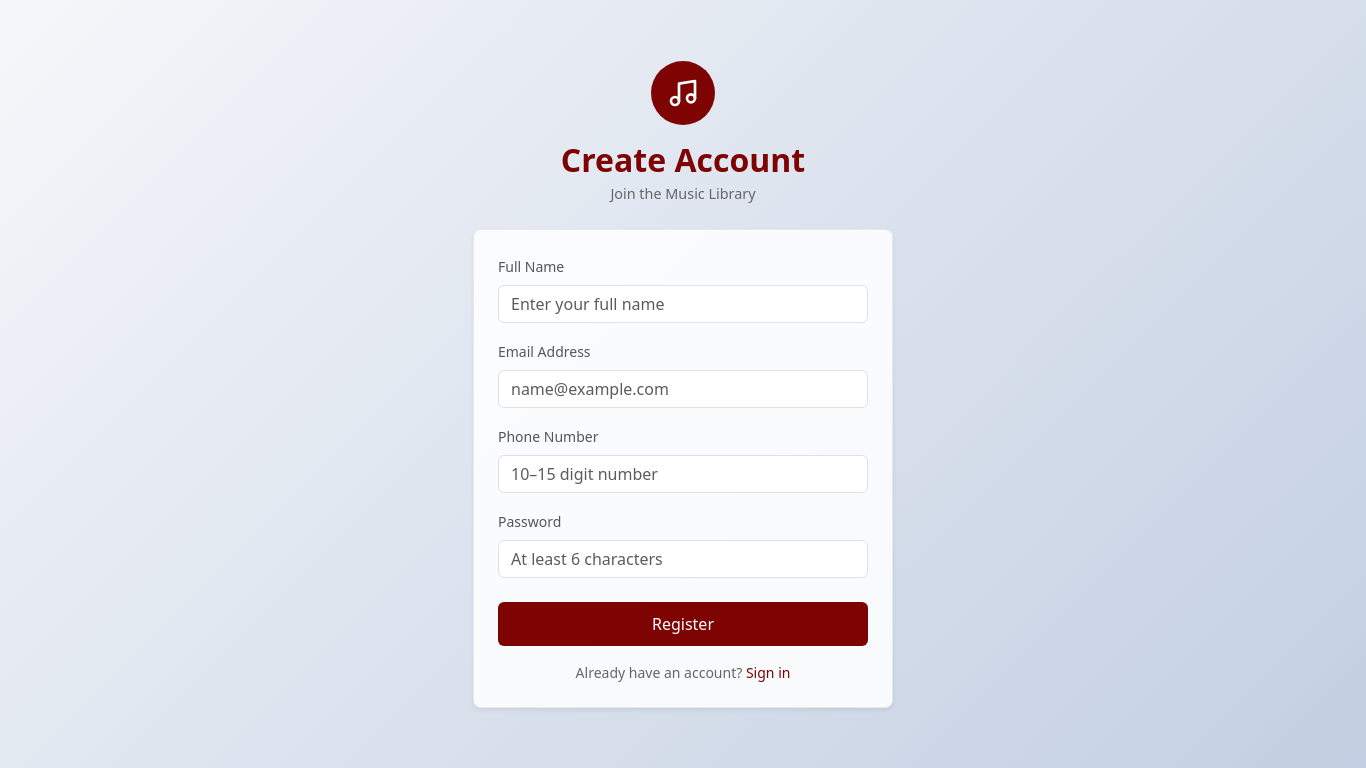
Register component › API calls › shows success message after successful registration
In the field with placeholder "Enter your full name": (683, 304) [498,284,868,322], type "John Doe"
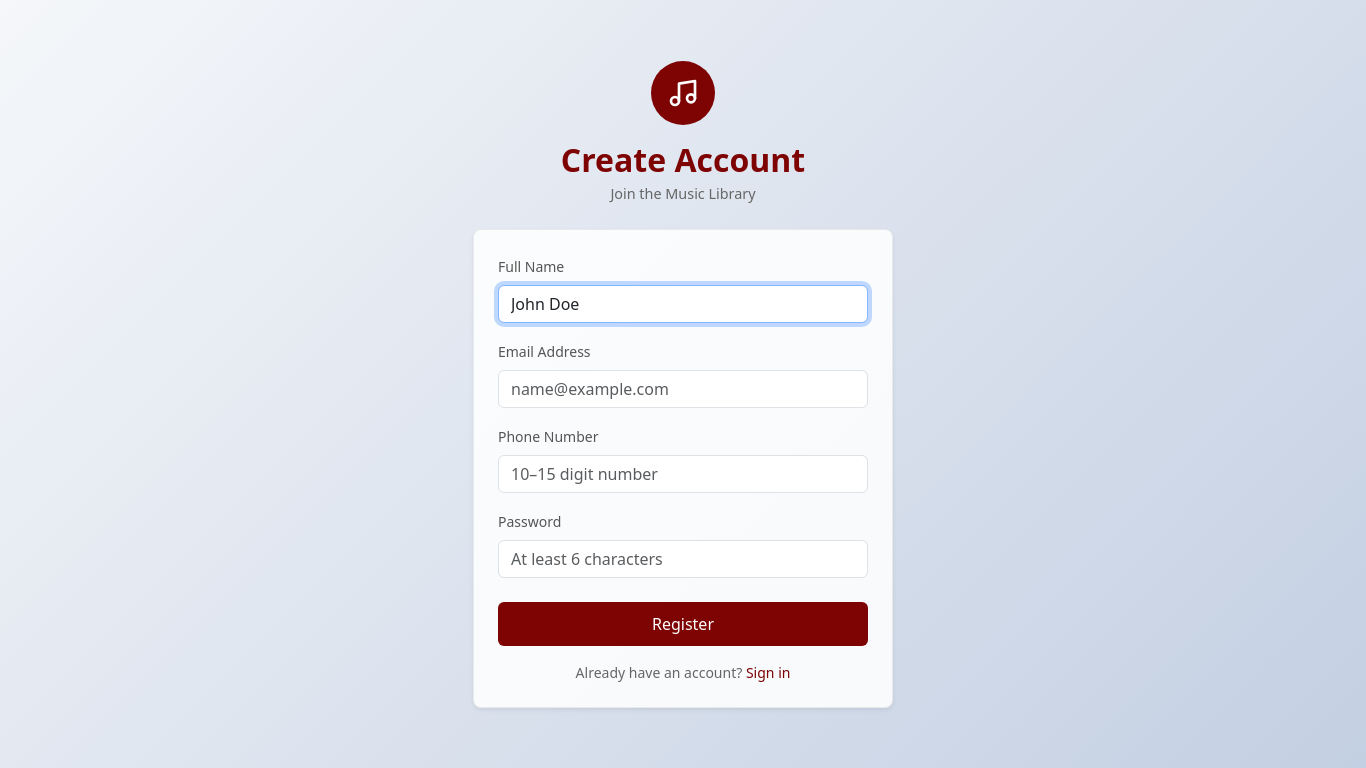
In the field with placeholder "name@example.com": (683, 388) [498,370,868,408], type "john@music.com"
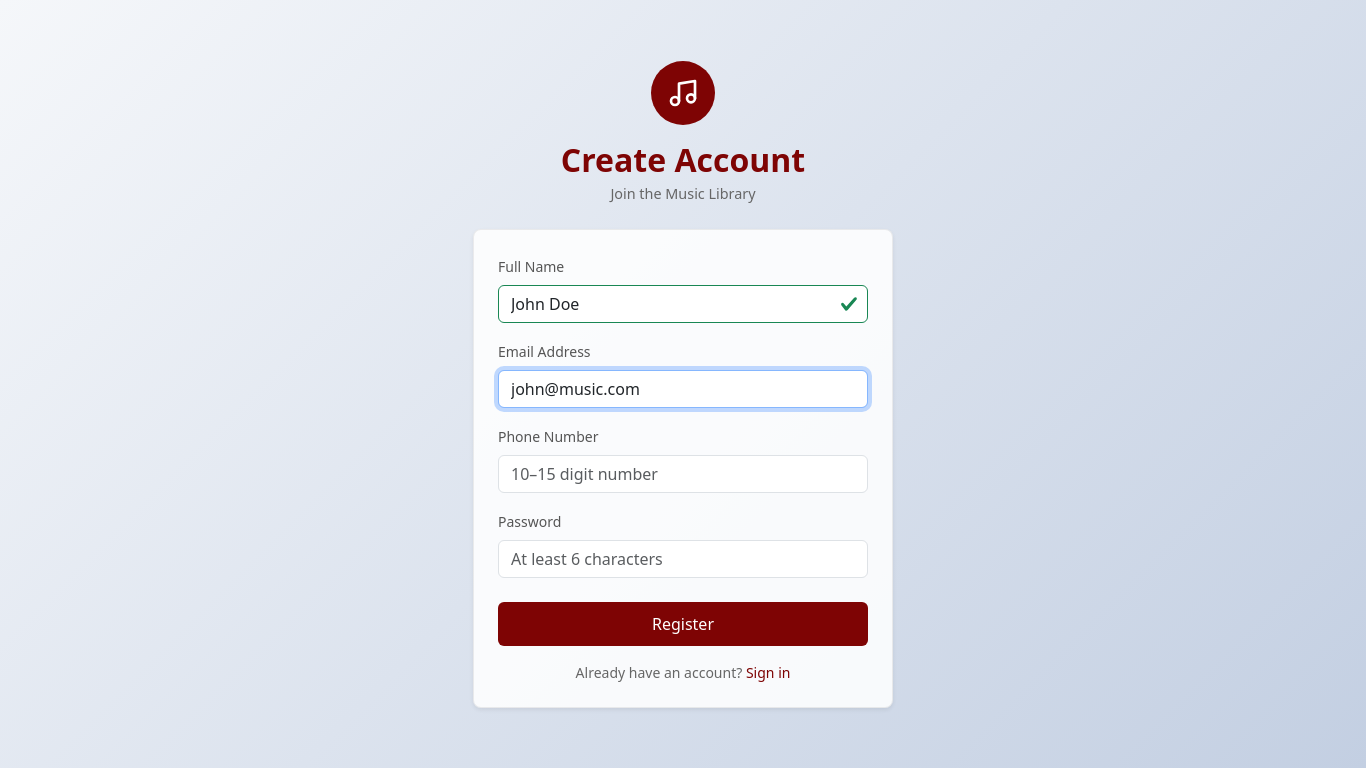
In the field with placeholder "10–15 digit number": (683, 474) [498,454,868,492], type "9876543210"
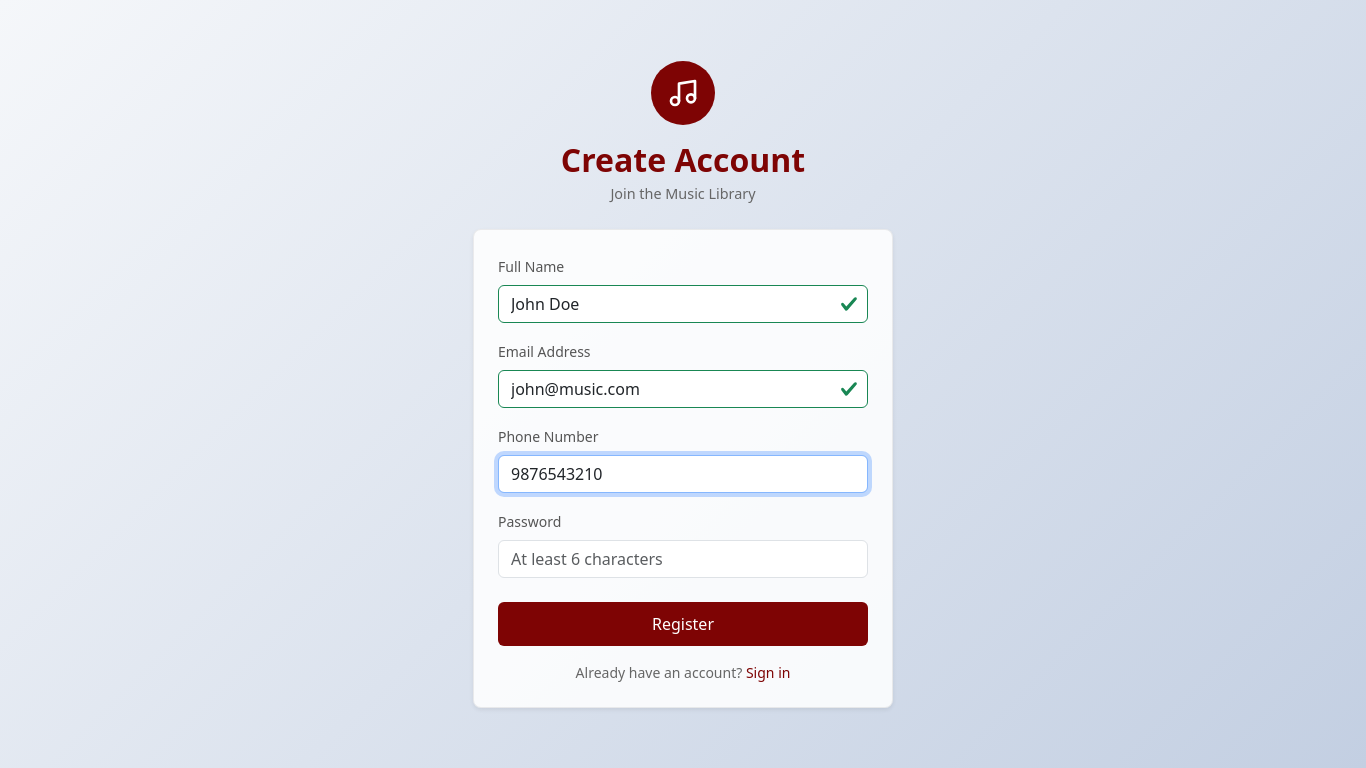
In the password field with placeholder "At least 6 characters": (683, 558) [498,540,868,578], type "pass123"
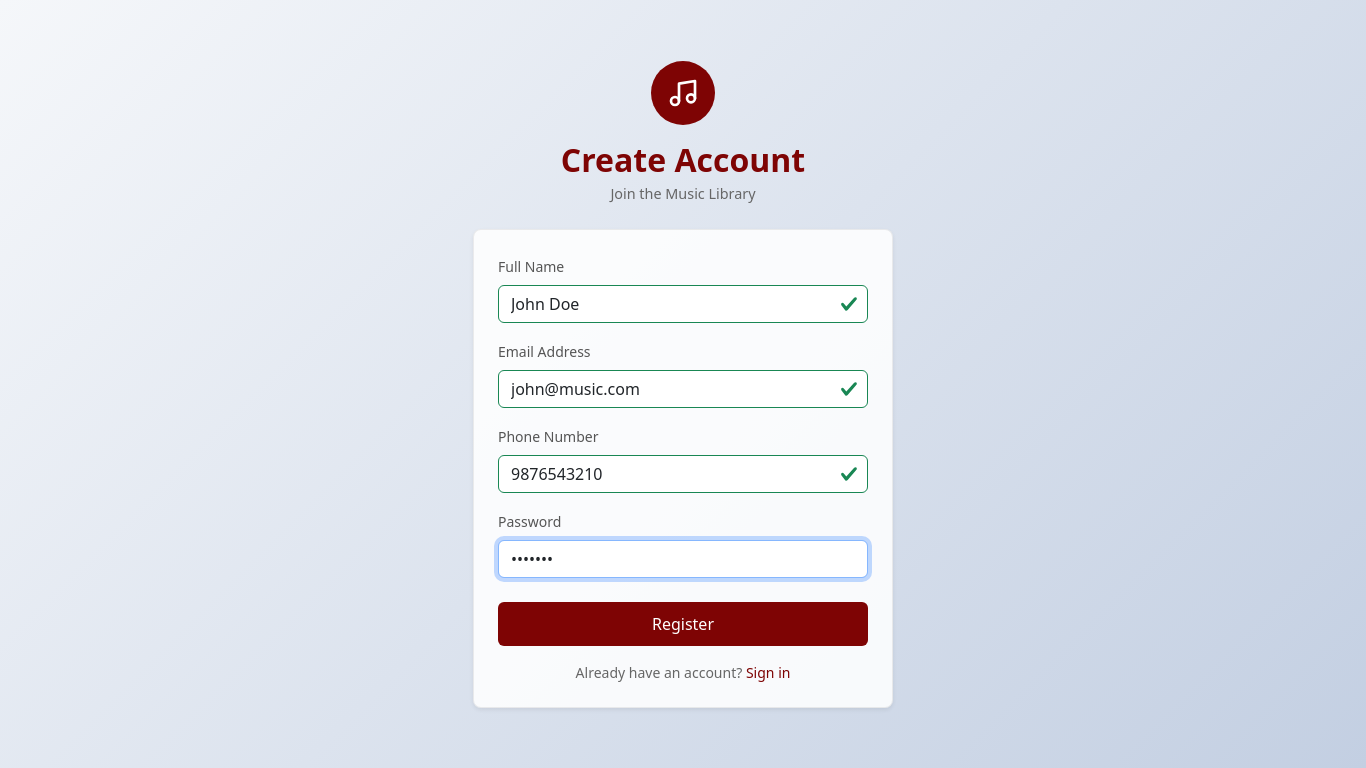
Click the button "Register": (683, 624) [498,602,868,646]
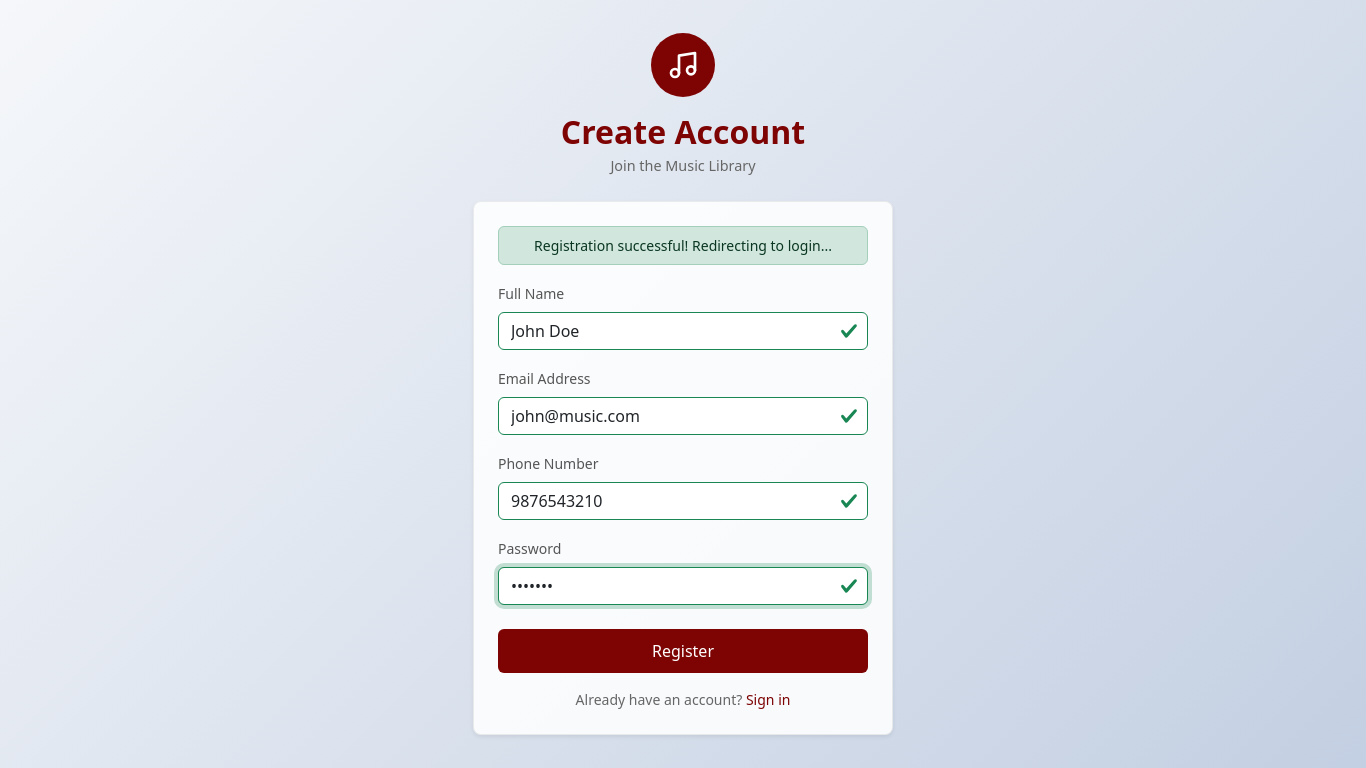
Expected: the text "Registration successful! Redirecting to login..." is shown, [498,226,868,265]
